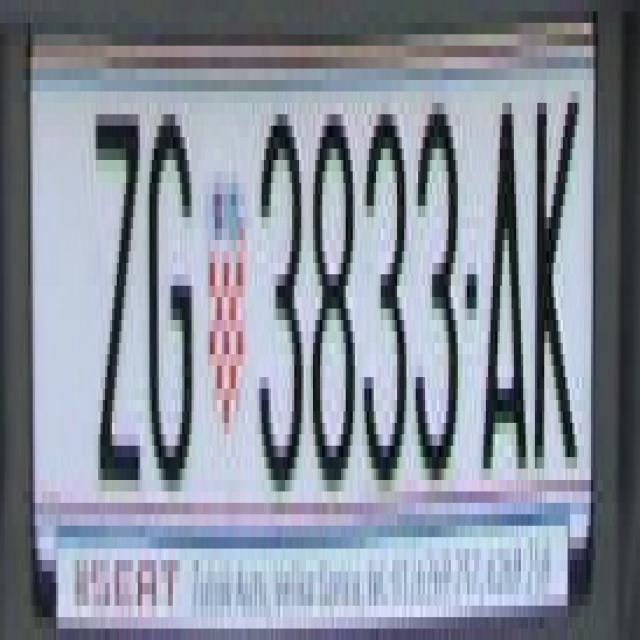3: (254, 102, 302, 492), (359, 103, 406, 480), (416, 91, 458, 480)
8: (308, 103, 355, 480)
A: (476, 91, 526, 480)
G: (145, 103, 194, 480)
K: (532, 80, 584, 469)
Z: (89, 91, 145, 480)
